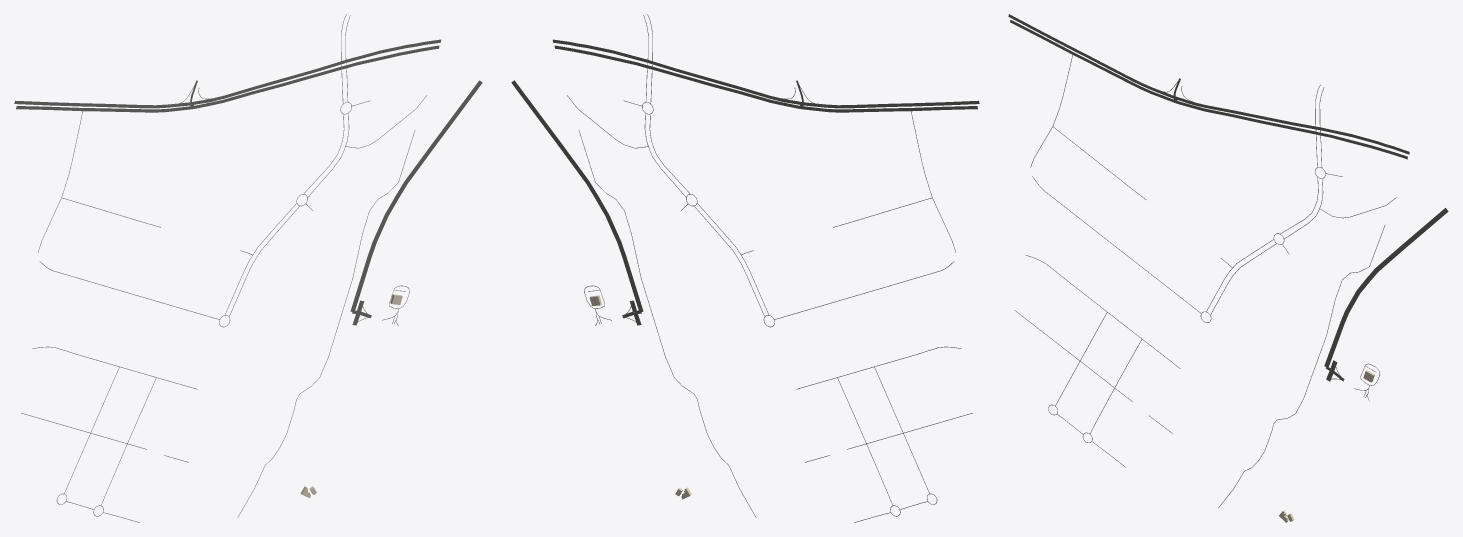
The model's file is historic-palestine-04_22_3459_3165.glb.
The picture shows the model from 3 angles, left to right: view 1: azimuth 30°, elevation 25°; view 2: azimuth 150°, elevation 25°; view 3: azimuth 330°, elevation 25°; orthographic projection. The views are drawn at different scales.
Visible parts, largest first — view 1: Road 4.001, Road דוד בן גוריון, Road דוד בן גוריון.002, Road דוד בן גוריון.004, Road דוד בן גוריון.001; view 2: Road 4.001, Road דוד בן גוריון, Road דוד בן גוריון.002, Road דוד בן גוריון.004, Road דוד בן גוריון.001; view 3: Road 4.001, Road דוד בן גוריון, Road דוד בן גוריון.002, Road דוד בן גוריון.004, Road דוד בן גוריון.001.
Part boxes in pixels (bbox=[...]): Road 4.001: bbox=[350, 80, 482, 311]; Road דוד בן גוריון: bbox=[194, 39, 441, 104]; Road דוד בן גוריון.002: bbox=[191, 45, 439, 109]; Road דוד בן גוריון.004: bbox=[16, 106, 191, 112]; Road דוד בן גוריון.001: bbox=[14, 100, 167, 108]; Road 4.001: bbox=[511, 80, 643, 311]; Road דוד בן גוריון: bbox=[552, 39, 799, 104]; Road דוד בן גוריון.002: bbox=[554, 45, 802, 109]; Road דוד בן גוריון.004: bbox=[802, 106, 977, 112]; Road דוד בן גוריון.001: bbox=[826, 100, 979, 108]; Road 4.001: bbox=[1324, 208, 1448, 366]; Road דוד בן גוריון: bbox=[1177, 97, 1409, 154]; Road דוד בן גוריון.002: bbox=[1175, 101, 1407, 159]; Road דוד בן גוריון.004: bbox=[1010, 20, 1175, 102]; Road דוד בן גוריון.001: bbox=[1008, 14, 1152, 89].
Bounding box in the file's own units: 1246 × 1213 × 8.7.
